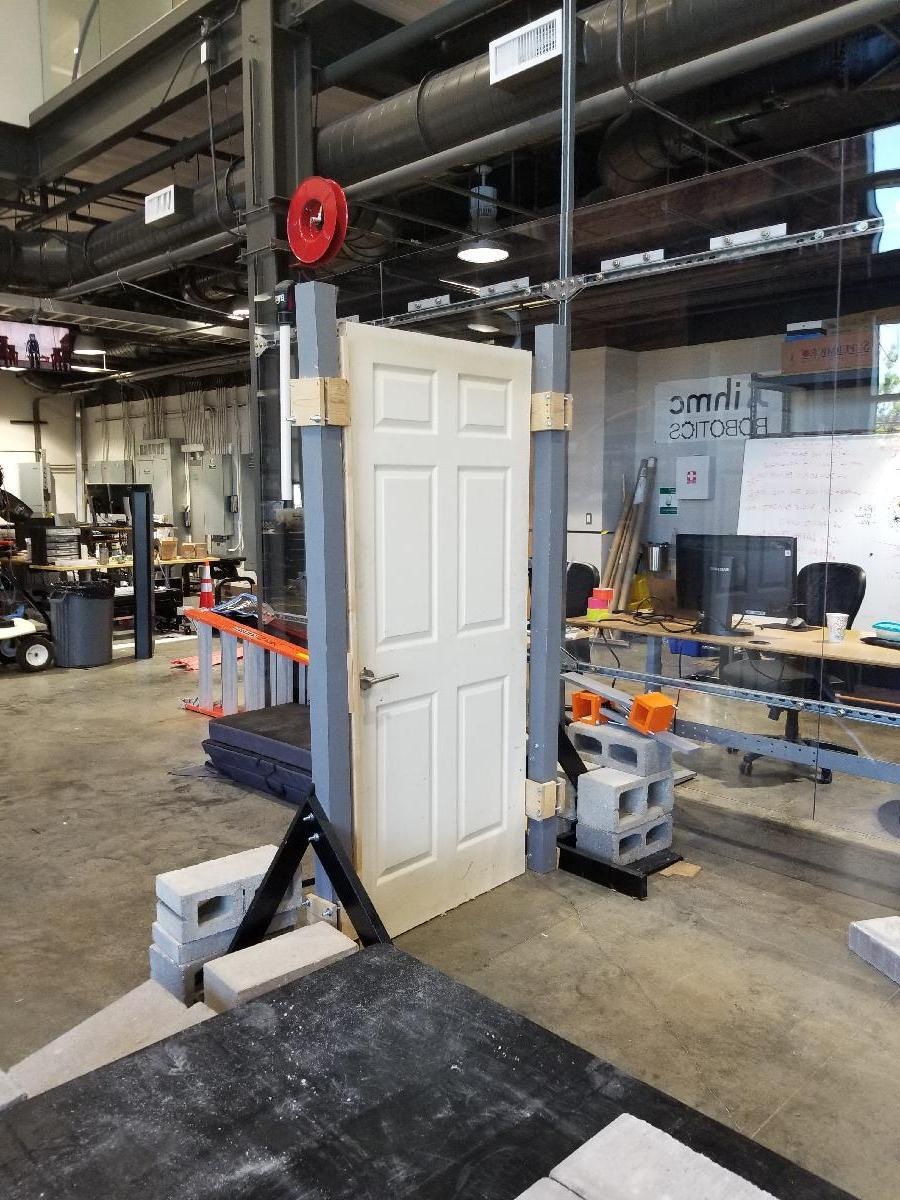door: (338, 328, 534, 929)
handle: (356, 665, 400, 695)
